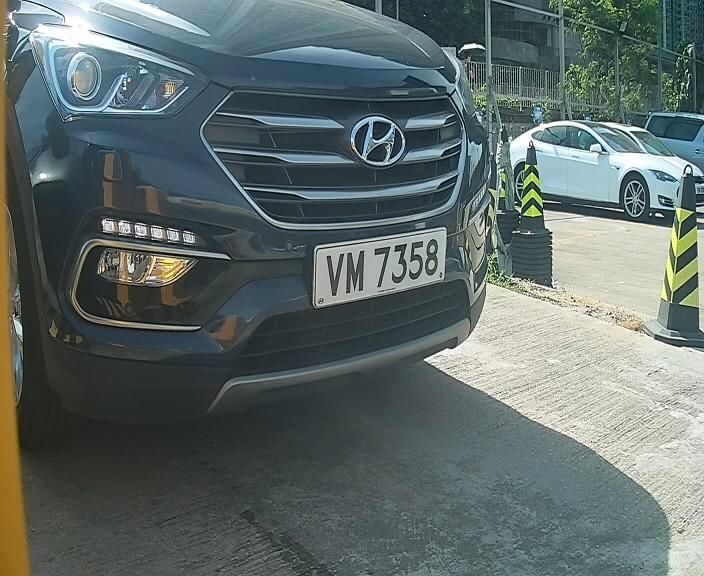privatecar: (13, 11, 522, 420)
